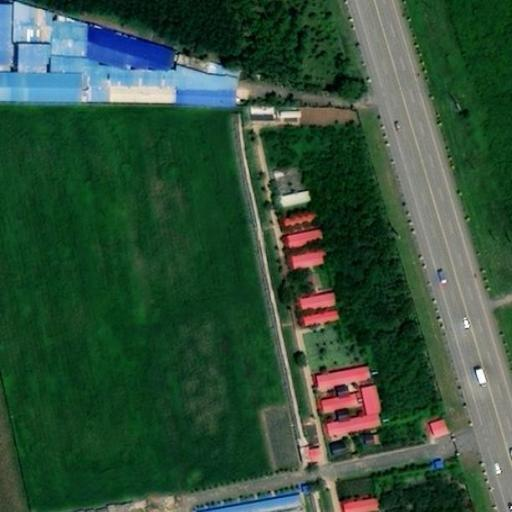building: (51, 42, 179, 117), (0, 63, 84, 122), (349, 428, 432, 474), (177, 82, 240, 122), (312, 355, 375, 385), (317, 378, 372, 405), (295, 101, 356, 125), (328, 427, 385, 452), (15, 17, 54, 44), (338, 489, 381, 512), (53, 29, 91, 55), (246, 101, 294, 120), (279, 181, 316, 205), (302, 306, 340, 327), (304, 320, 342, 341), (288, 242, 326, 262), (292, 264, 330, 284), (322, 405, 359, 425), (424, 408, 451, 434), (286, 225, 321, 244), (363, 400, 382, 431), (282, 204, 314, 222), (302, 440, 325, 461), (428, 436, 449, 456), (309, 460, 324, 475)
